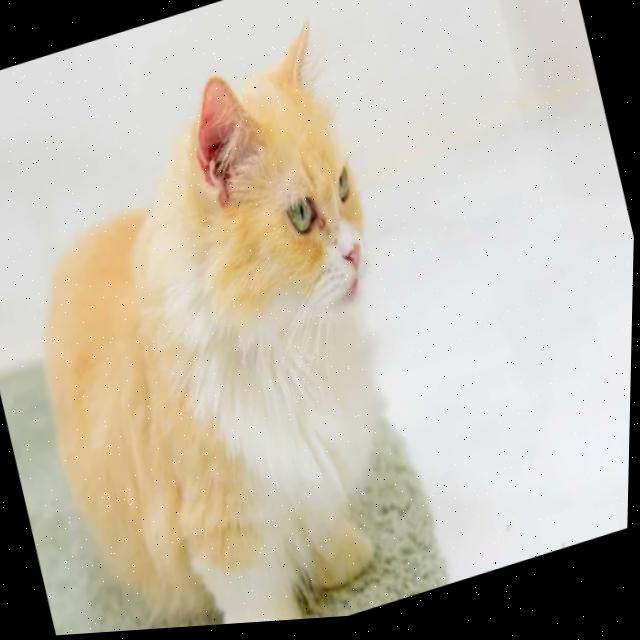Munchkin: (0, 1, 467, 640)
